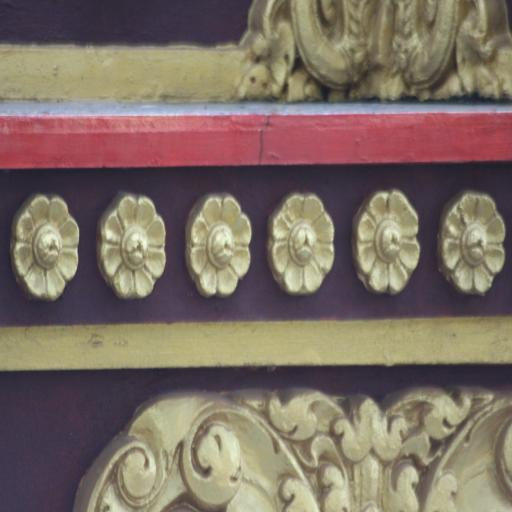hoa: (11, 194, 85, 308), (98, 188, 168, 302), (353, 188, 424, 294), (436, 186, 509, 285), (186, 192, 252, 301), (268, 190, 334, 296)
la: (57, 365, 512, 512), (247, 0, 511, 93)
